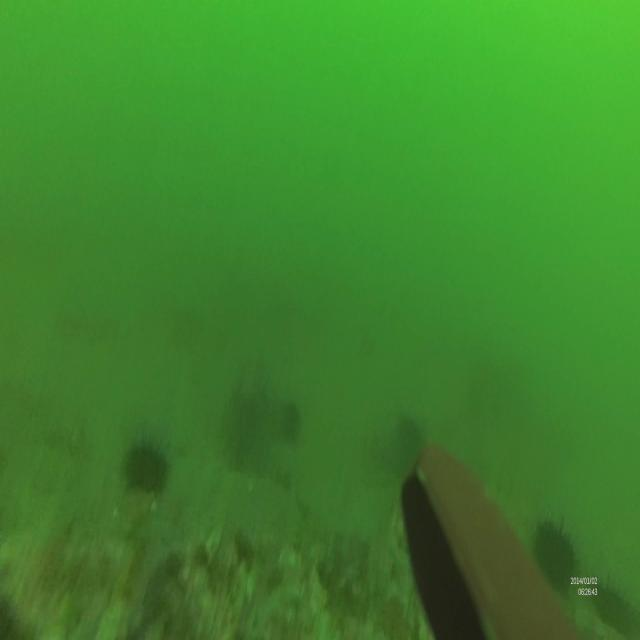echinus: (120, 430, 172, 494), (536, 508, 577, 588), (592, 570, 638, 640)
